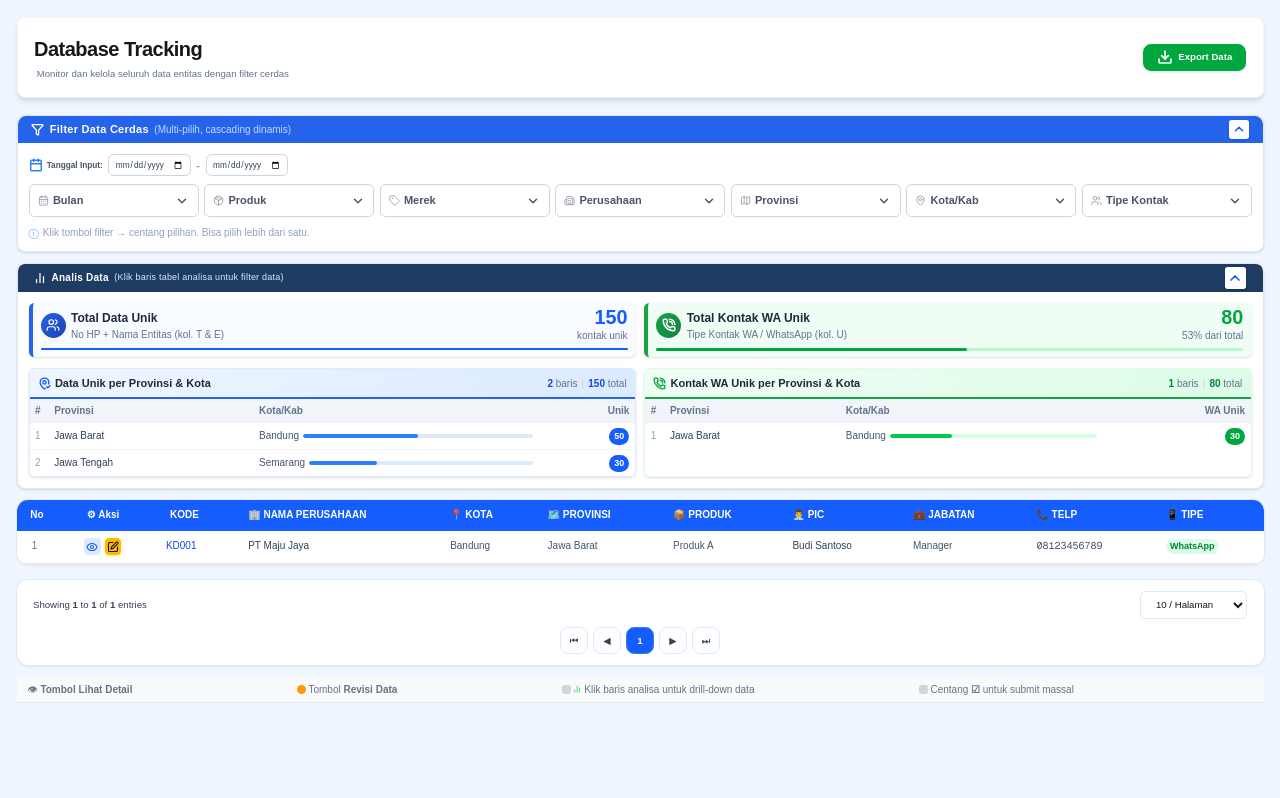
TrackingDatabasePage — Detail Row › menampilkan panel detail saat tombol Lihat Detail diklik
Expected: the text "PT Maju Jaya" is shown, [248,540,309,552]
Click the button titled "Lihat Detail": click(92, 547) [84,538,101,555]
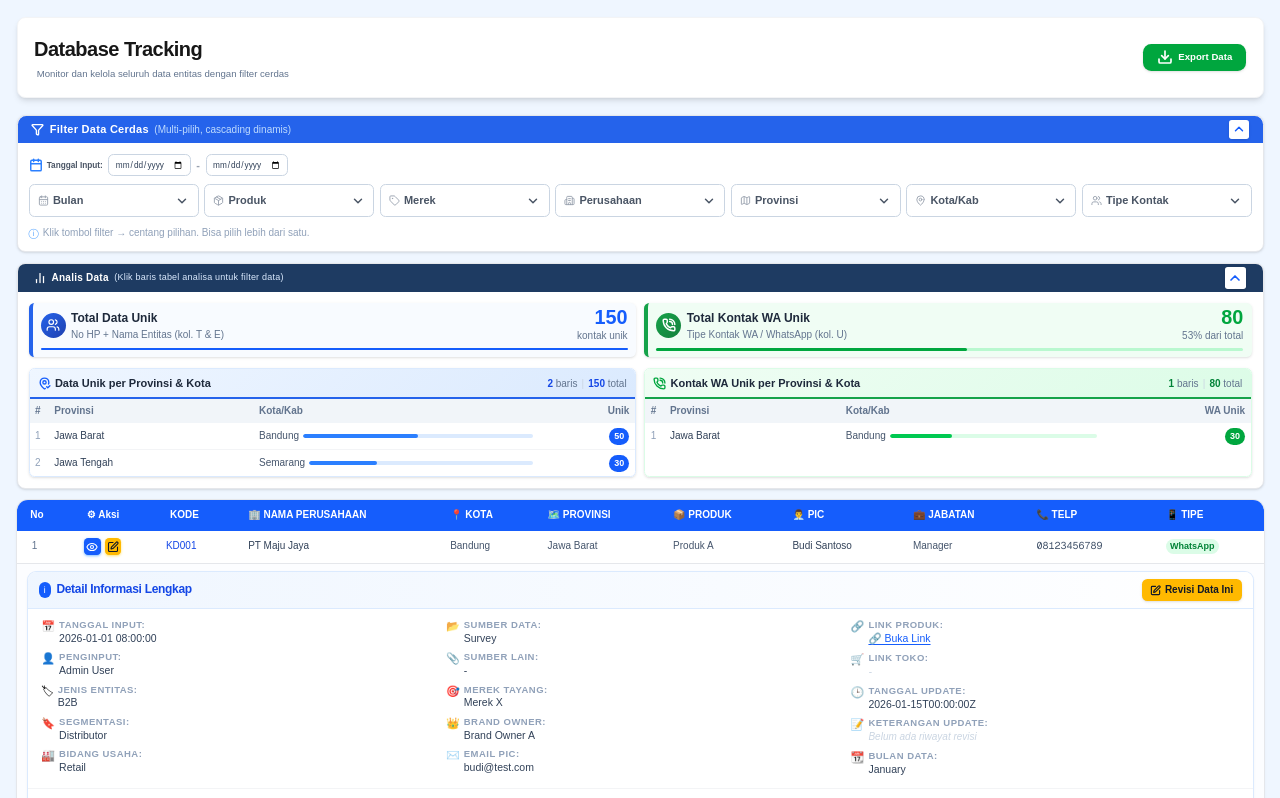
Expected: the text "Detail Informasi Lengkap" is shown, [56,582,192,599]
